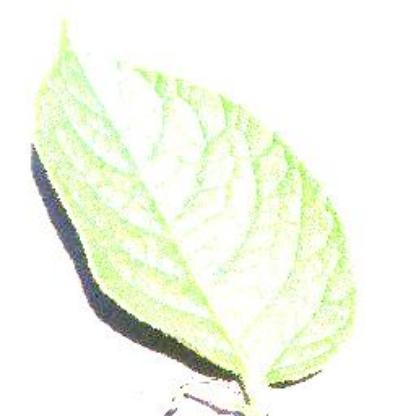Healthy-plant: (30, 25, 358, 413)
